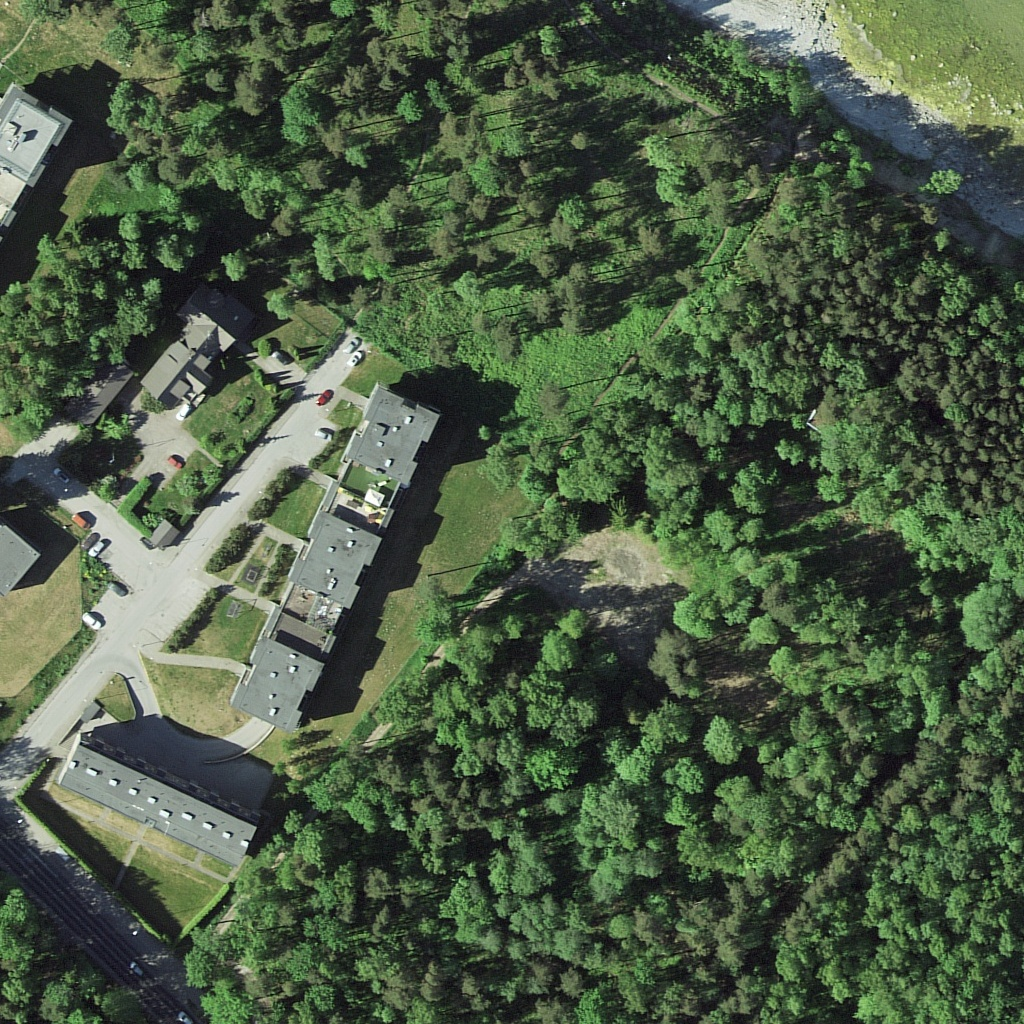building: (45, 738, 258, 868), (136, 296, 234, 413), (340, 386, 436, 491), (220, 639, 332, 724), (289, 508, 385, 605), (1, 86, 69, 185)
